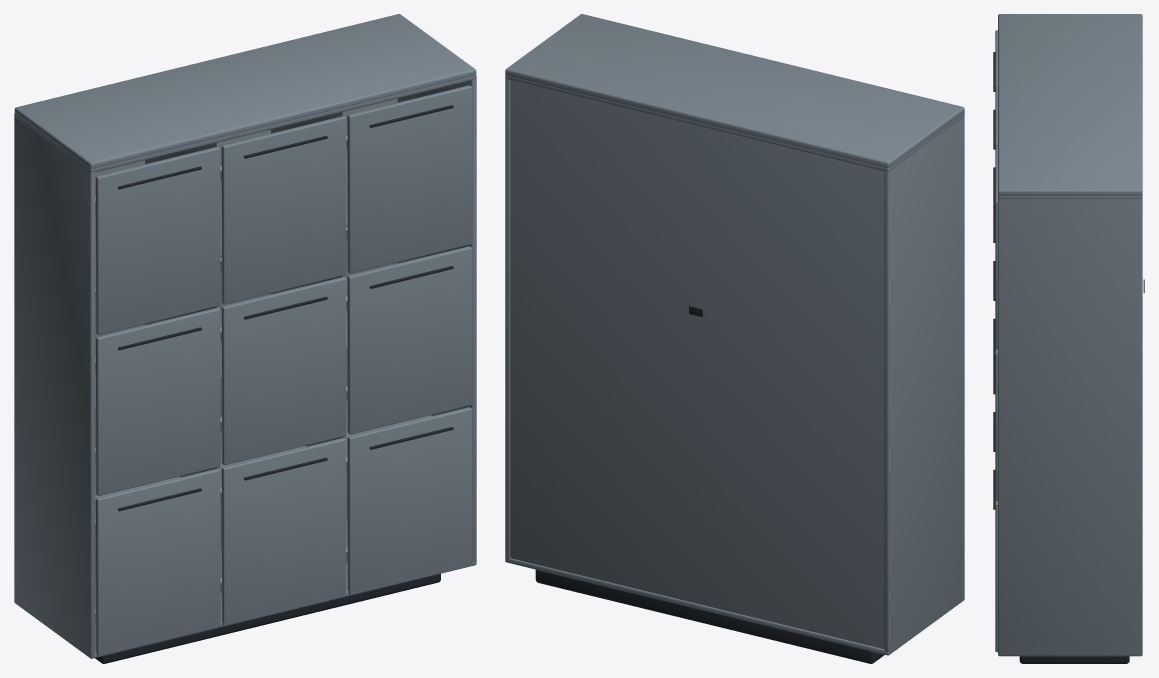
Rendered from sliding-closet.glb.
3 renders of one model, left to right at view 1: azimuth 30°, elevation 25°; view 2: azimuth 150°, elevation 25°; view 3: azimuth 270°, elevation 25°, orthographic. The views are drawn at different scales.
Visible parts, largest first — view 1: sliding-closet; view 2: sliding-closet; view 3: sliding-closet.
Part boxes in pixels (box(x1,y1,x2,y2)): sliding-closet: box(14, 14, 476, 663); sliding-closet: box(505, 14, 964, 663); sliding-closet: box(993, 14, 1144, 663).
Size of the model in its own units: 1.8 by 2.3 by 0.65.
